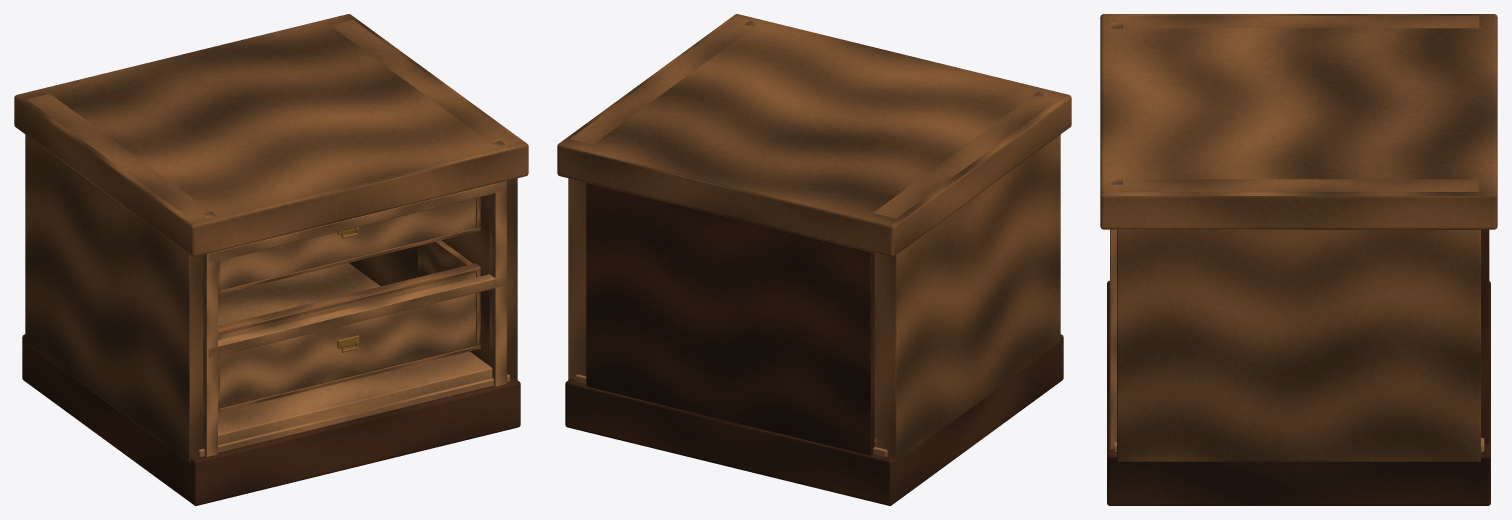
File: asset.glb
3 views of the same model, side by side, from view 1: azimuth 30°, elevation 25°; view 2: azimuth 150°, elevation 25°; view 3: azimuth 270°, elevation 25° (orthographic). The views are drawn at different scales.
Visible parts, largest first — view 1: MaterialBatch_Room_furniture_quarter-sawn_oak, MaterialBatch_Room_furniture_light_oak, MaterialBatch_Room_furniture_smoked_walnut; view 2: MaterialBatch_Room_furniture_quarter-sawn_oak, MaterialBatch_Room_furniture_smoked_walnut; view 3: MaterialBatch_Room_furniture_quarter-sawn_oak, MaterialBatch_Room_furniture_smoked_walnut, MaterialBatch_Room_furniture_light_oak.
Boxes of the visible parts, left/top/right/bottom form: MaterialBatch_Room_furniture_quarter-sawn_oak: left=14, top=14, right=528, bottom=462; MaterialBatch_Room_furniture_light_oak: left=198, top=141, right=510, bottom=456; MaterialBatch_Room_furniture_smoked_walnut: left=22, top=334, right=520, bottom=505; MaterialBatch_Room_furniture_quarter-sawn_oak: left=557, top=14, right=1071, bottom=462; MaterialBatch_Room_furniture_smoked_walnut: left=565, top=182, right=1063, bottom=505; MaterialBatch_Room_furniture_quarter-sawn_oak: left=1100, top=14, right=1497, bottom=461; MaterialBatch_Room_furniture_smoked_walnut: left=1107, top=229, right=1490, bottom=505; MaterialBatch_Room_furniture_light_oak: left=1110, top=23, right=1484, bottom=451.
Size of the model in its own units: 26 by 21 by 24.
Materials: 5 (5 with a texture image).
